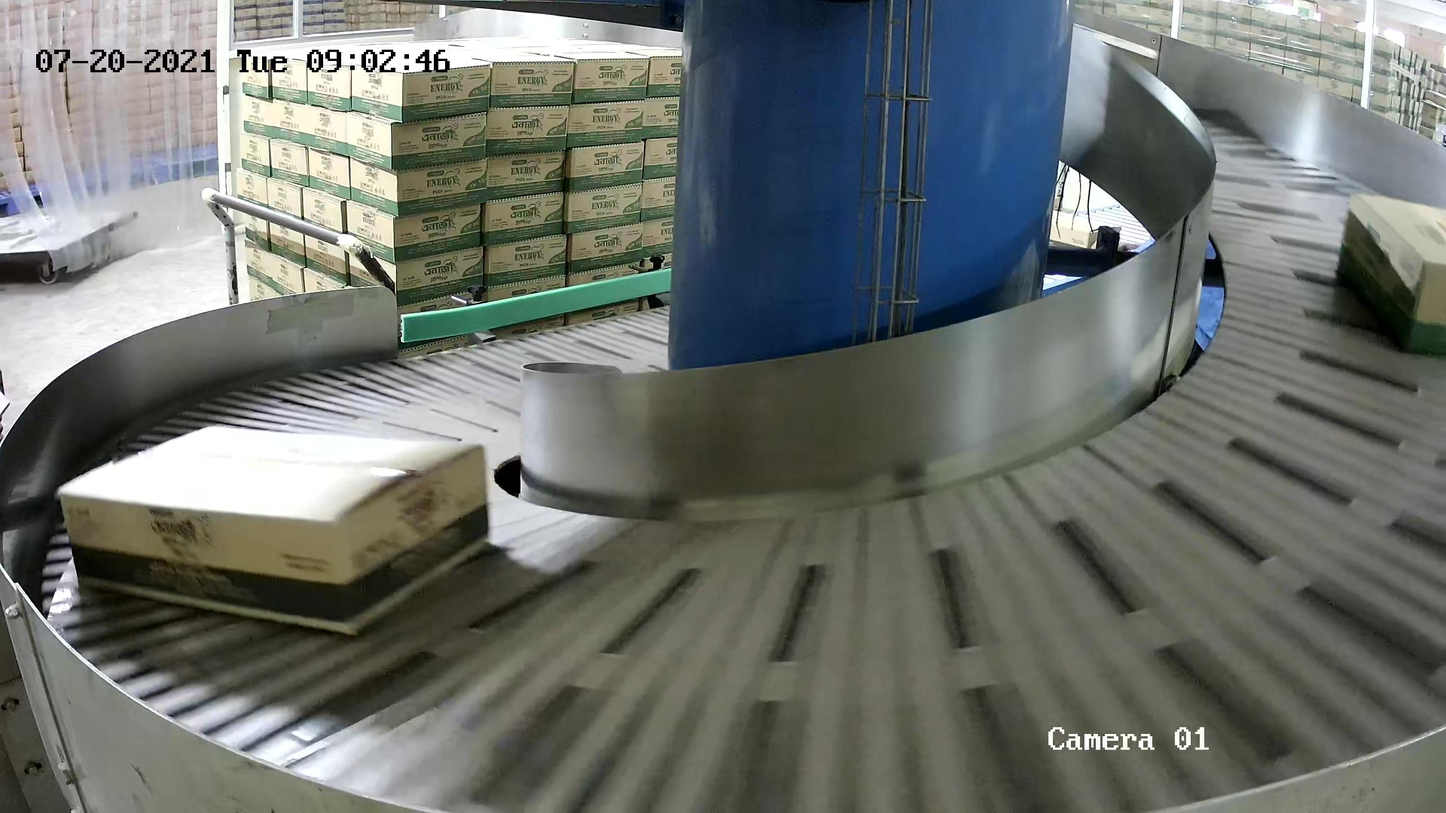Box: (52, 419, 493, 638), (1334, 190, 1446, 357)
